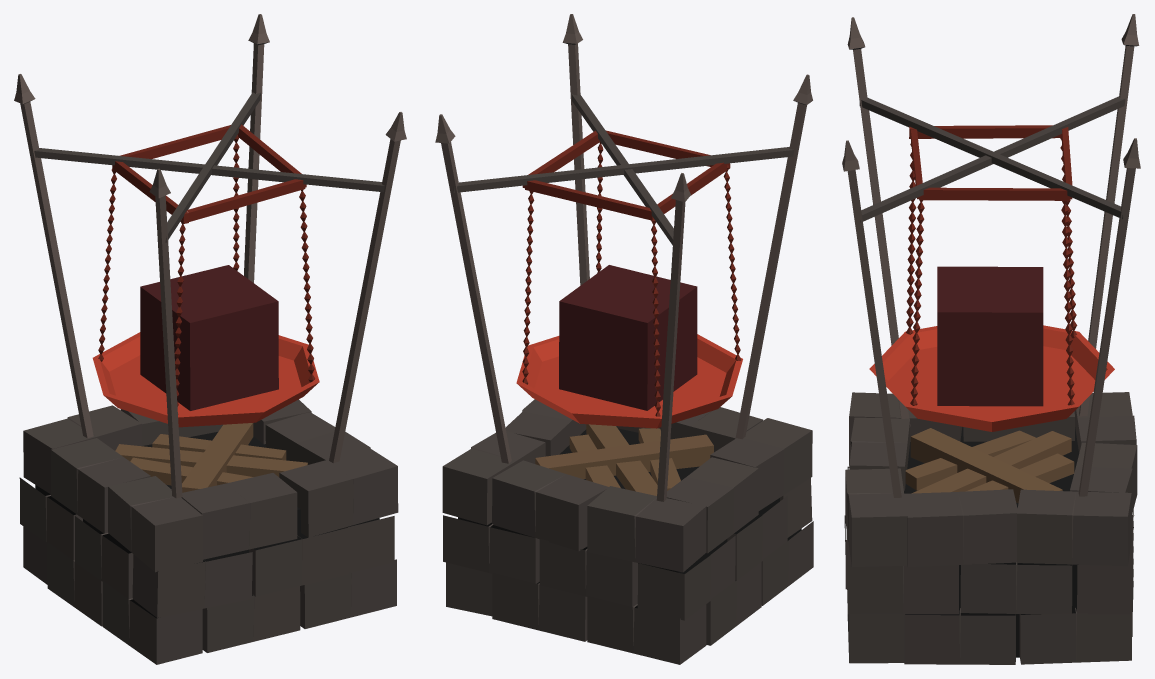
The model's file is ZumbiePyre.glb.
The picture shows the model from 3 angles, left to right: view 1: azimuth 30°, elevation 25°; view 2: azimuth 150°, elevation 25°; view 3: azimuth 270°, elevation 25°; orthographic projection. The views are drawn at different scales.
Visible parts, largest first — view 1: zumbiePyre; view 2: zumbiePyre; view 3: zumbiePyre.
Part boxes in pixels (x1,y1,x2,y2): zumbiePyre: (14,14,406,664); zumbiePyre: (435,14,813,664); zumbiePyre: (842,14,1140,664).
Size of the model in its own units: 0.9485 by 1.76 by 0.9079.
1 material, 1 textured.
